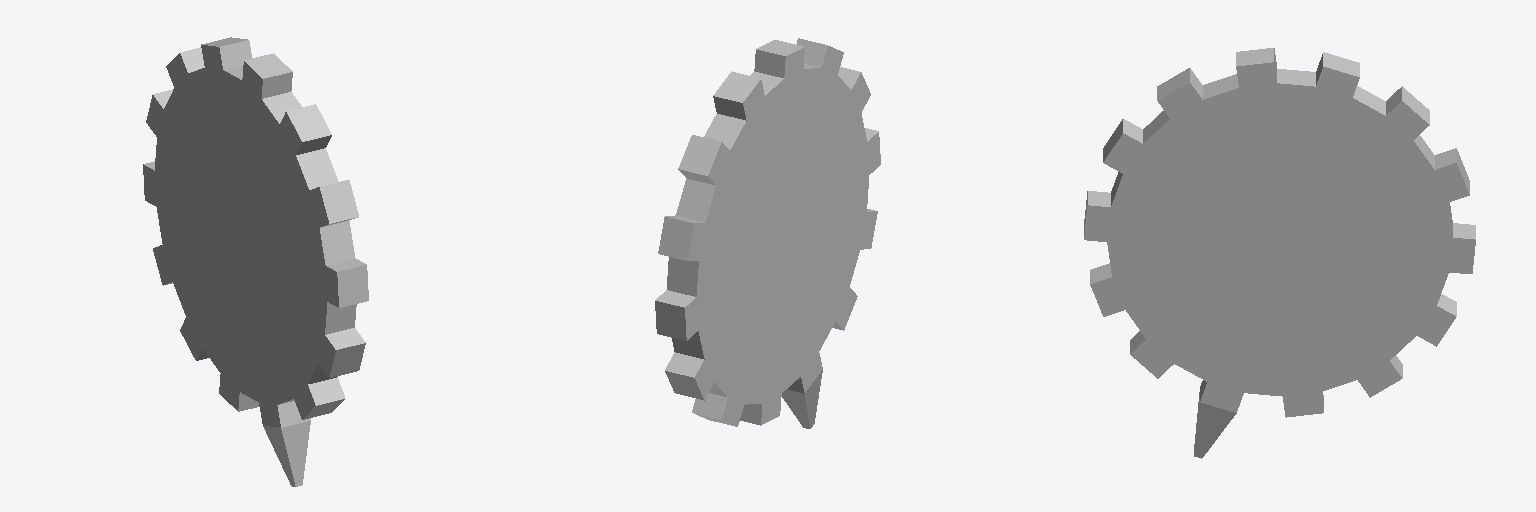
Rendered from gear_000010.obj.
3 views of the same model, side by side, from view 1: azimuth 30°, elevation 25°; view 2: azimuth 150°, elevation 25°; view 3: azimuth 270°, elevation 25° (orthographic).
Parts seen in each view (by area): view 1: gear_Cylinder.001; view 2: gear_Cylinder.001; view 3: gear_Cylinder.001.
Part boxes in pixels (x1,y1,x2,y2): gear_Cylinder.001: (143, 37, 368, 486); gear_Cylinder.001: (655, 38, 880, 428); gear_Cylinder.001: (1084, 48, 1475, 458).
Bounding box in the file's own units: 0.1 × 1.28 × 1.13.